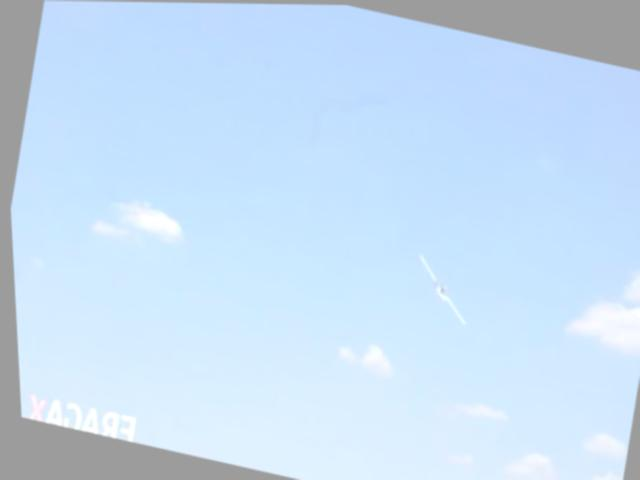uav: (392, 245, 482, 332)
